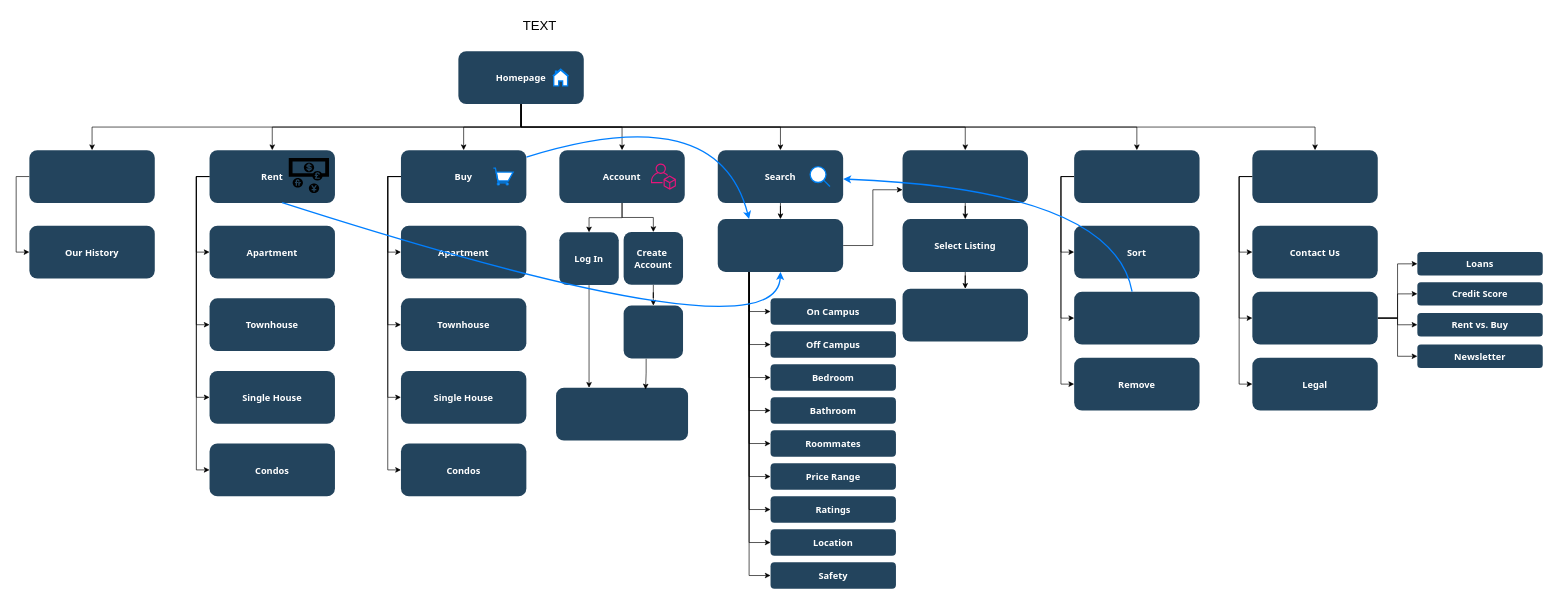
This 1554x600 diagram has some shape labels left out. The centre of each missing label's shape, as x and y in pixels:
"About Us" goes at pixel 91 176.
"Account Setup" goes at pixel 653 331.
"Add" goes at pixel 1136 317.
"Browse Listings" goes at pixel 965 176.
"Contact Seller" goes at pixel 965 314.
"Edit Account Info" goes at pixel 622 413.
"FAQ" goes at pixel 1314 317.
"Filter" goes at pixel 780 245.
"Help" goes at pixel 1314 176.
"Saved" goes at pixel 1136 176.
